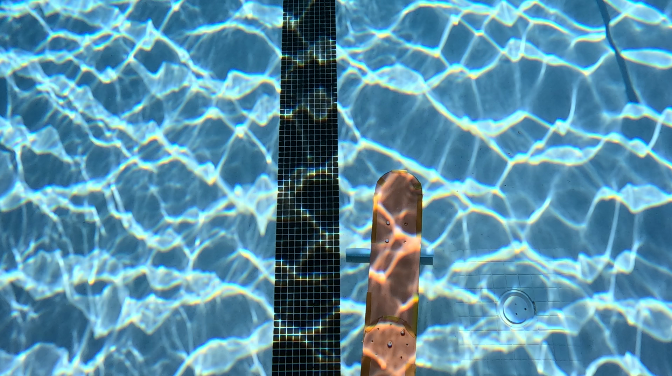pathmarker: (360, 170, 421, 375)
